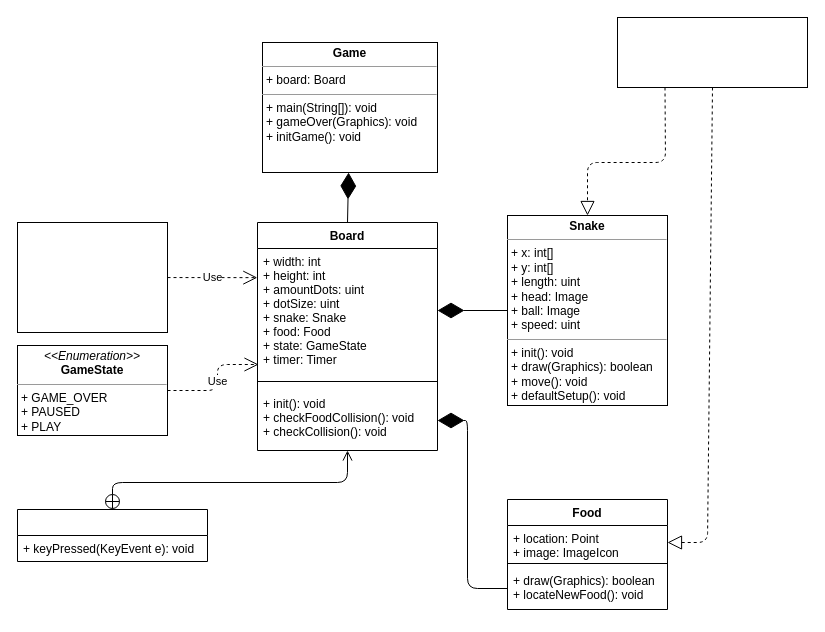
Some shapes in this 825 by 632 pixel diagram are drawn without their labels. The box of each missing label's shape, as (x1, y1, x2, y2) in pixels:
<<Enumeration>> Direction + LEFT + RIGHT + UP + DOWN: (16, 222, 168, 332)
<<Interface>> IDrawable + draw(Graphics): boolean: (616, 16, 808, 88)
TKeyAdapter: (16, 508, 208, 562)
